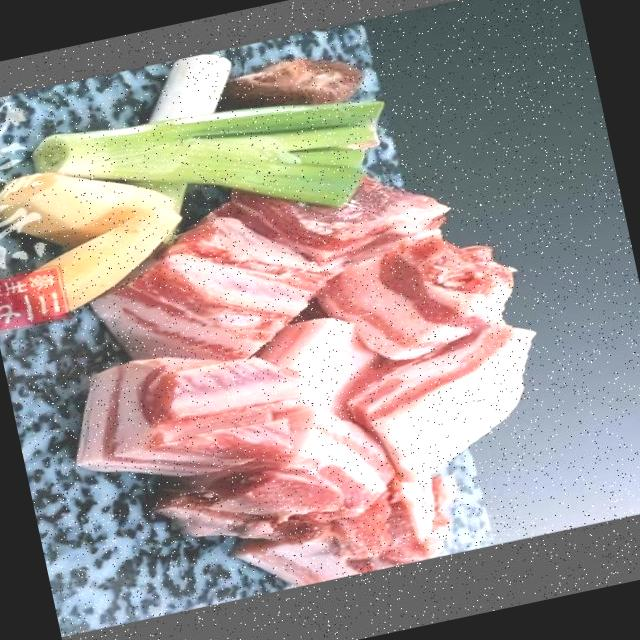pork: (151, 410, 395, 536), (350, 326, 534, 480), (76, 355, 305, 476), (316, 235, 512, 357), (213, 171, 450, 270), (236, 475, 450, 584), (99, 255, 315, 360), (167, 214, 333, 284)
